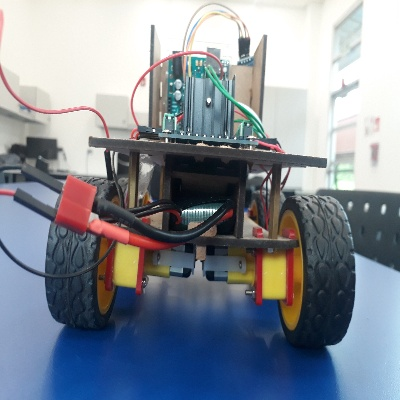Robot: (43, 19, 357, 347)
